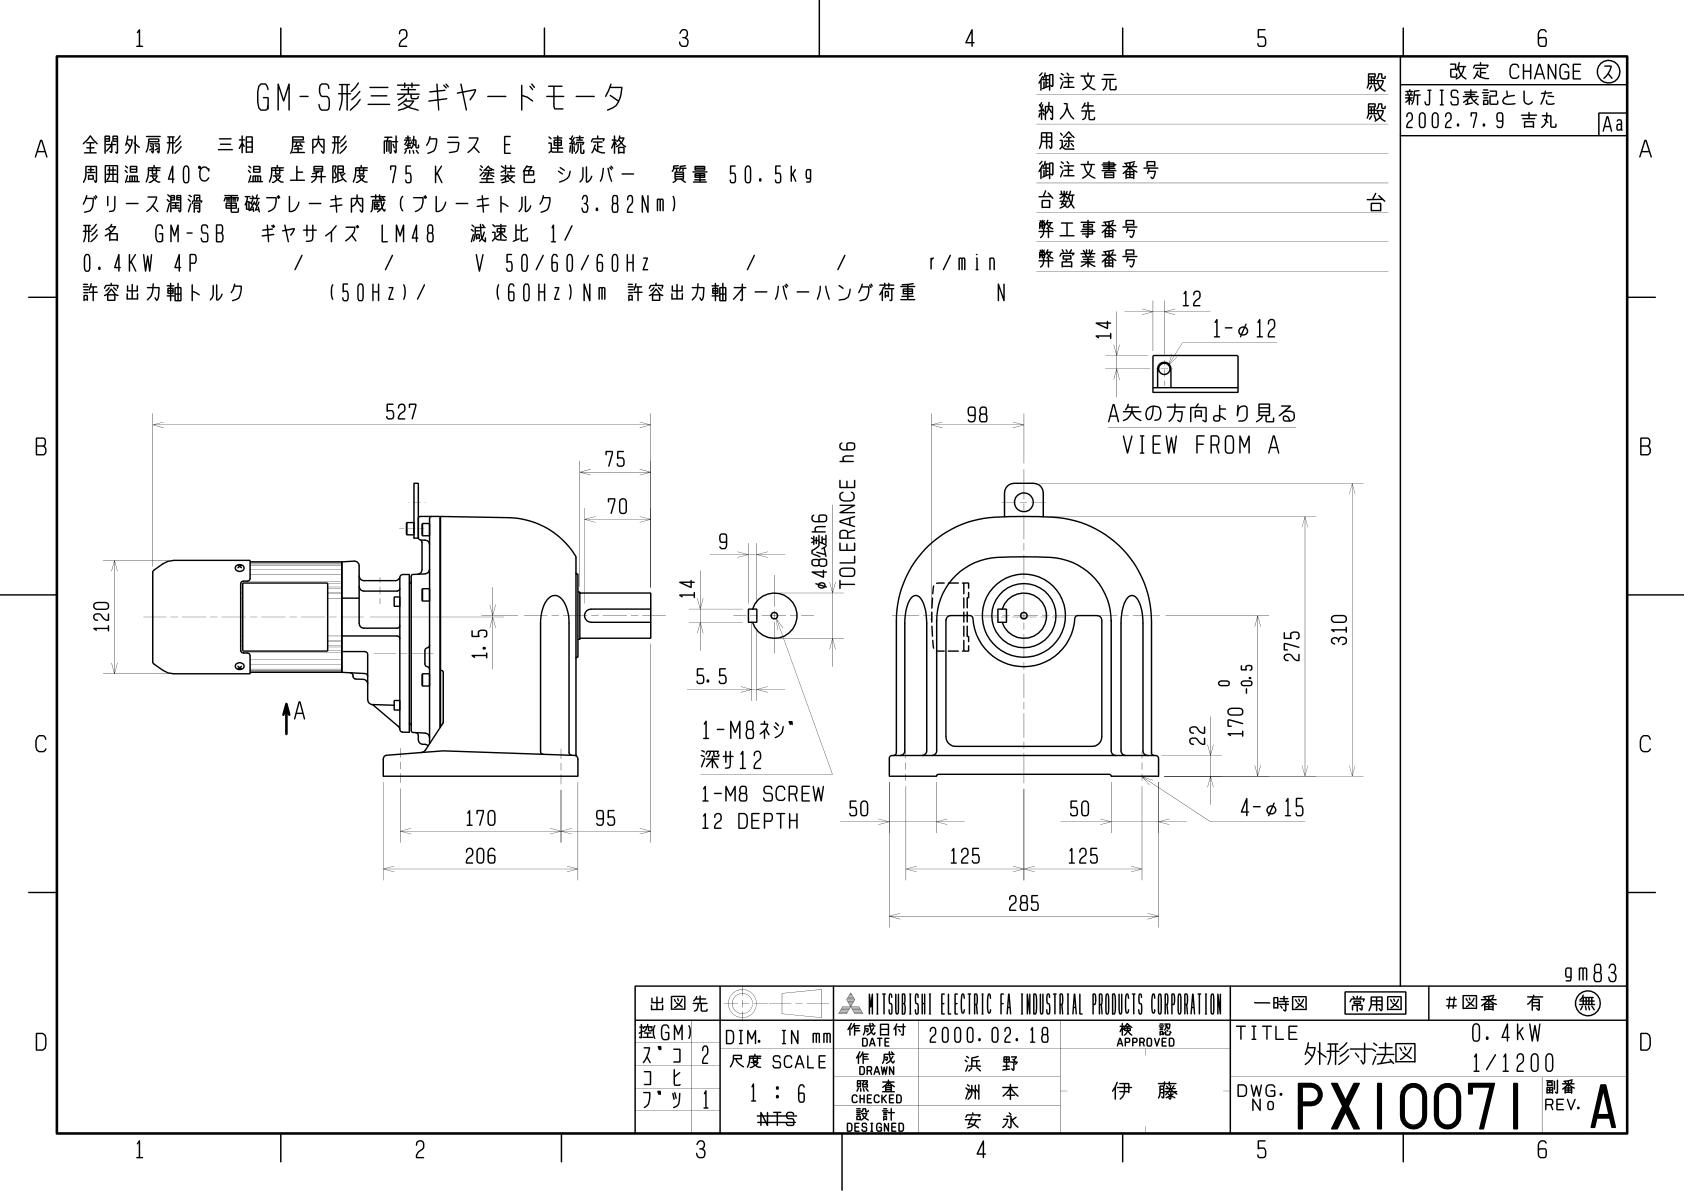GM_S_屋内＿三相_脚: (64, 282, 1381, 955)
